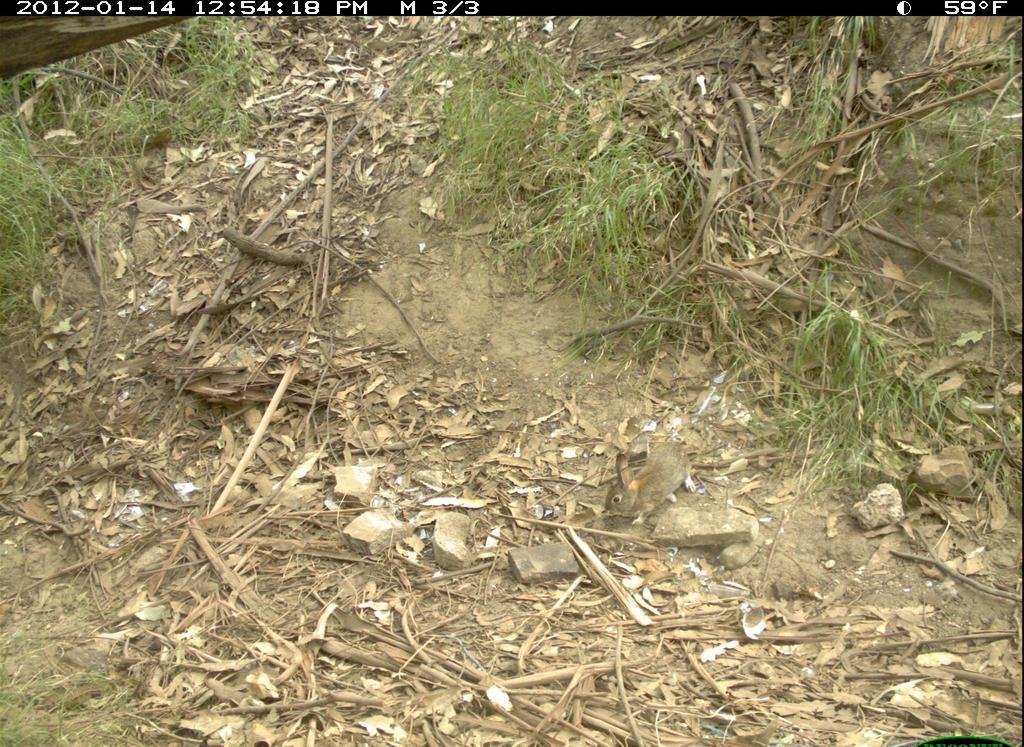rabbit: (598, 437, 700, 530)
